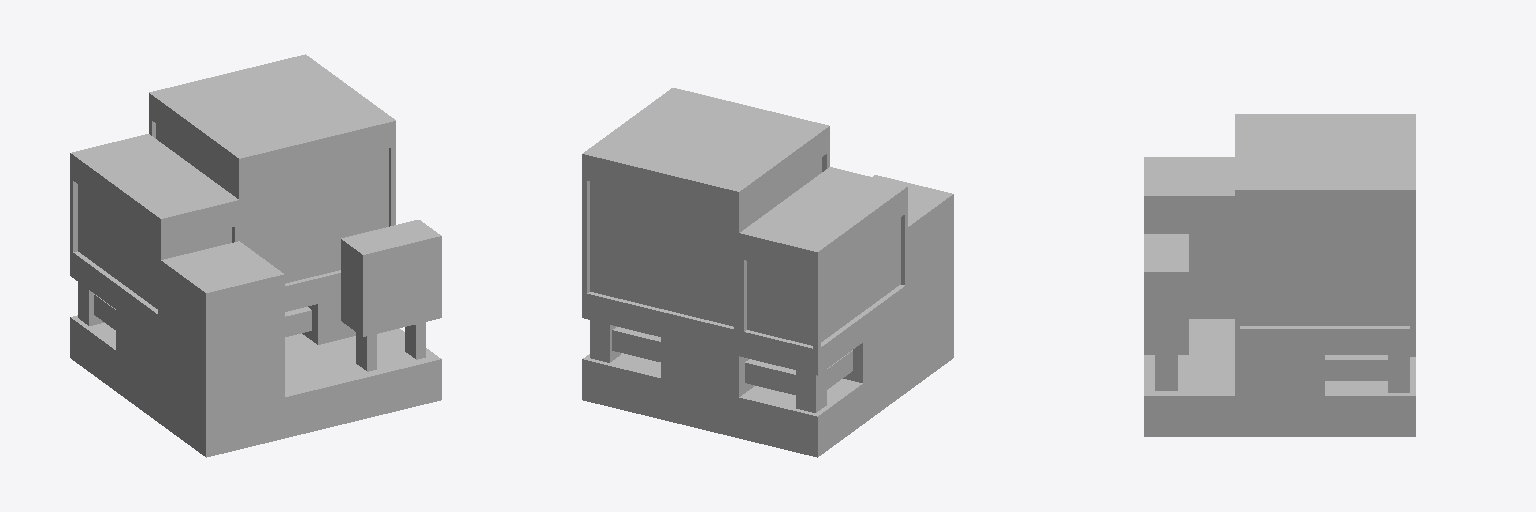
Rendered from distiller.obj.
3 renders of one model, left to right at view 1: azimuth 30°, elevation 25°; view 2: azimuth 150°, elevation 25°; view 3: azimuth 270°, elevation 25°, orthographic.
Visible parts, largest first — view 1: base; view 2: base; view 3: base.
Boxes of the visible parts, x1=… form: base: x1=70, y1=54, x2=441, y2=457; base: x1=582, y1=88, x2=953, y2=457; base: x1=1144, y1=114, x2=1415, y2=436.
Bounding box in the file's own units: 3 × 3 × 3.